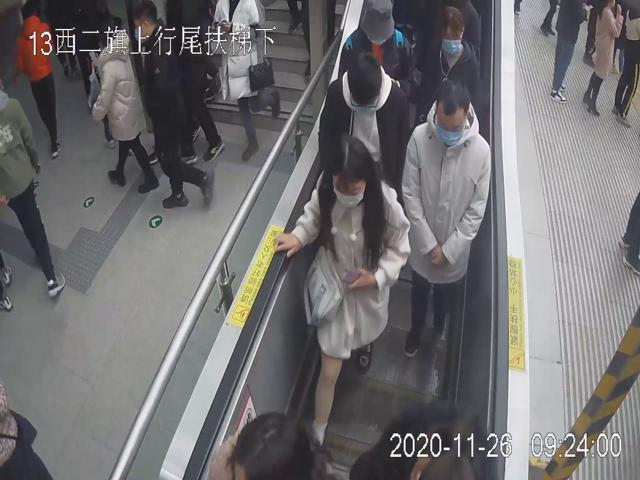person: (272, 132, 411, 449), (399, 78, 493, 357), (319, 56, 410, 186), (411, 4, 482, 130)
